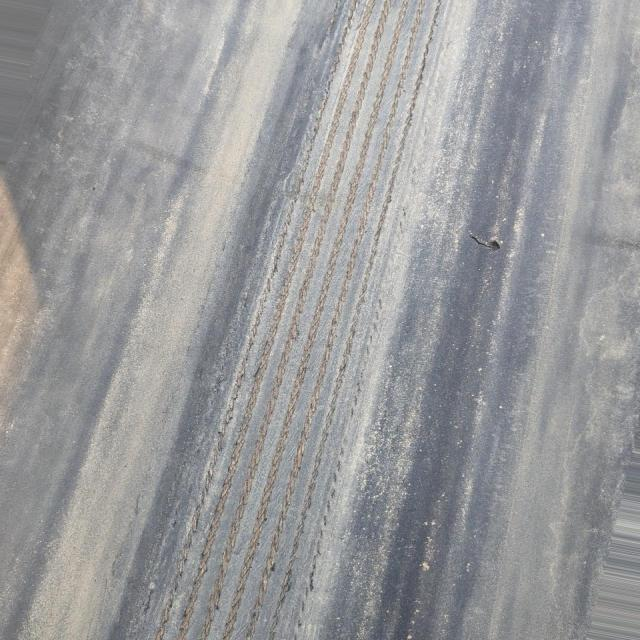Tear: (462, 222, 510, 266)
Wear: (132, 0, 468, 640)
